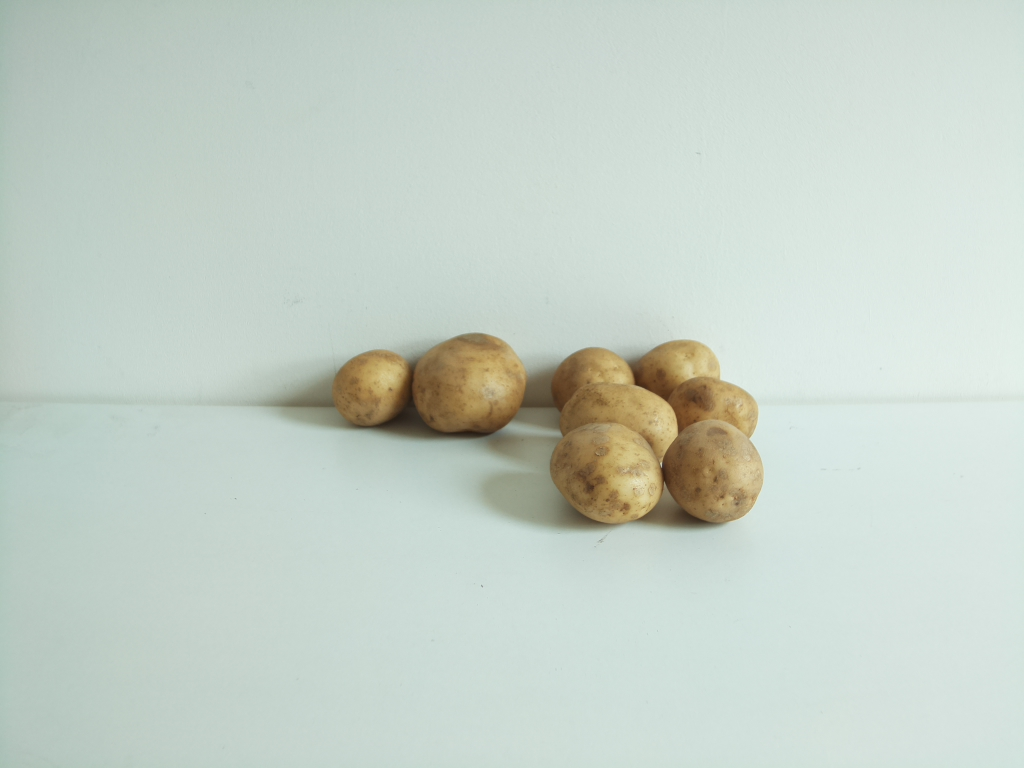potatoes: (552, 340, 763, 524), (333, 333, 526, 438)
